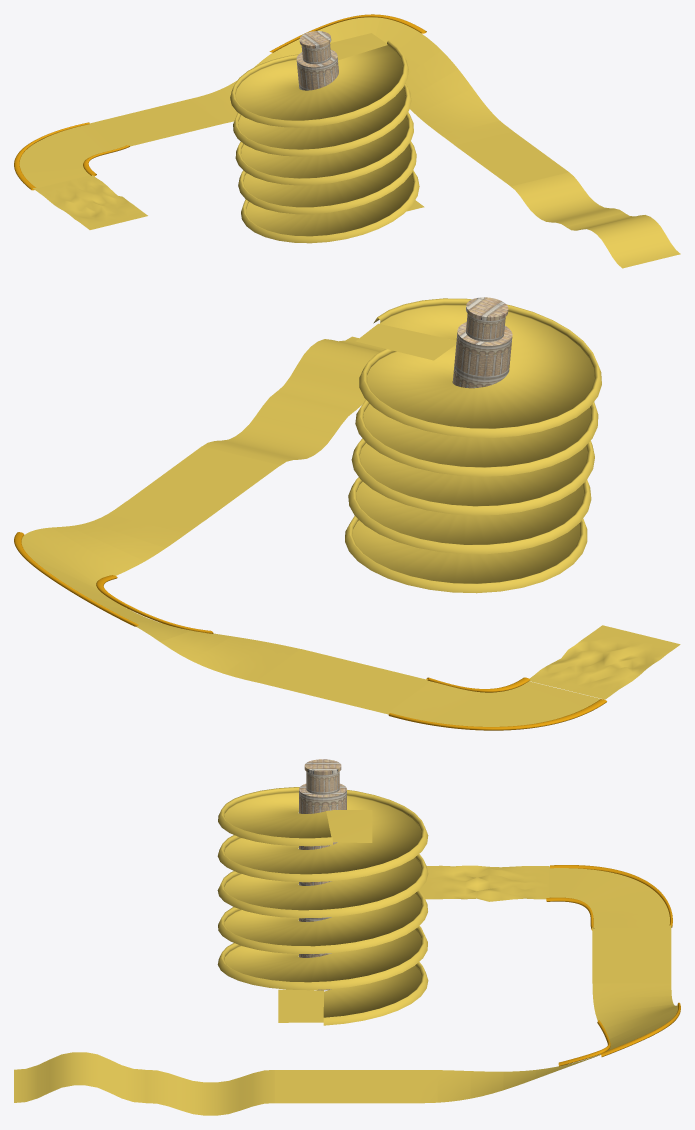
Rendered from TileSetPista.fbx.
3 views of the same model, one above another, from view 1: azimuth 30°, elevation 25°; view 2: azimuth 150°, elevation 25°; view 3: azimuth 270°, elevation 25° (orthographic). The views are drawn at different scales.
Parts seen in each view (by area): view 1: CurvaDePisaa, CurvaAcentuada, CurvaNormal, EstradaReta2, CurvaSinosoidalConvexo, EstradaIrregular, EstradaReta1, CurvaSinosoidalConcavo, Cylinder; view 2: CurvaDePisaa, CurvaAcentuada, CurvaNormal, EstradaReta2, EstradaIrregular, EstradaReta1, CurvaSinosoidalConcavo, CurvaSinosoidalConvexo, Cylinder; view 3: CurvaDePisaa, CurvaAcentuada, CurvaNormal, CurvaSinosoidalConvexo, EstradaReta2, EstradaReta1, CurvaSinosoidalConcavo, EstradaIrregular, Cylinder.
Part boxes in pixels (bbox=[...]): CurvaDePisaa: bbox=[230, 33, 424, 243]; CurvaAcentuada: bbox=[189, 14, 513, 145]; CurvaNormal: bbox=[14, 122, 129, 190]; EstradaReta2: bbox=[92, 99, 222, 146]; CurvaSinosoidalConvexo: bbox=[566, 213, 680, 268]; EstradaIrregular: bbox=[34, 175, 147, 229]; EstradaReta1: bbox=[455, 131, 568, 186]; CurvaSinosoidalConcavo: bbox=[511, 172, 624, 227]; Cylinder: bbox=[296, 31, 338, 90]; CurvaDePisaa: bbox=[345, 298, 601, 593]; CurvaAcentuada: bbox=[14, 501, 300, 681]; CurvaNormal: bbox=[387, 677, 606, 730]; EstradaReta2: bbox=[256, 649, 430, 713]; EstradaIrregular: bbox=[529, 625, 680, 699]; EstradaReta1: bbox=[127, 446, 279, 520]; CurvaSinosoidalConcavo: bbox=[202, 392, 354, 465]; CurvaSinosoidalConvexo: bbox=[277, 336, 385, 410]; Cylinder: bbox=[452, 297, 512, 388]; CurvaDePisaa: bbox=[217, 787, 428, 1025]; CurvaAcentuada: bbox=[405, 983, 680, 1103]; CurvaNormal: bbox=[546, 865, 672, 930]; CurvaSinosoidalConvexo: bbox=[14, 1052, 145, 1102]; EstradaReta2: bbox=[592, 928, 671, 983]; EstradaReta1: bbox=[275, 1070, 406, 1103]; CurvaSinosoidalConcavo: bbox=[145, 1070, 274, 1115]; EstradaIrregular: bbox=[420, 865, 548, 901]; Cylinder: bbox=[299, 759, 346, 990].
Size of the model in its own units: 4322 by 1839 by 5077.
4 materials, 1 textured.
